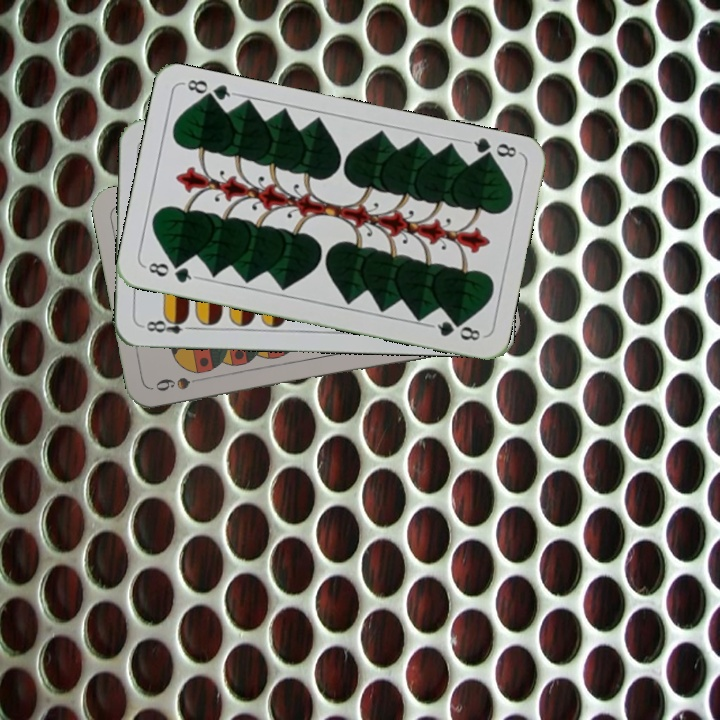E8: (139, 313, 198, 336)
G8: (463, 134, 519, 164), (141, 258, 199, 286)
S9: (151, 372, 209, 394)
